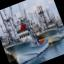fishing boat: (0, 17, 54, 64), (29, 0, 64, 47)
